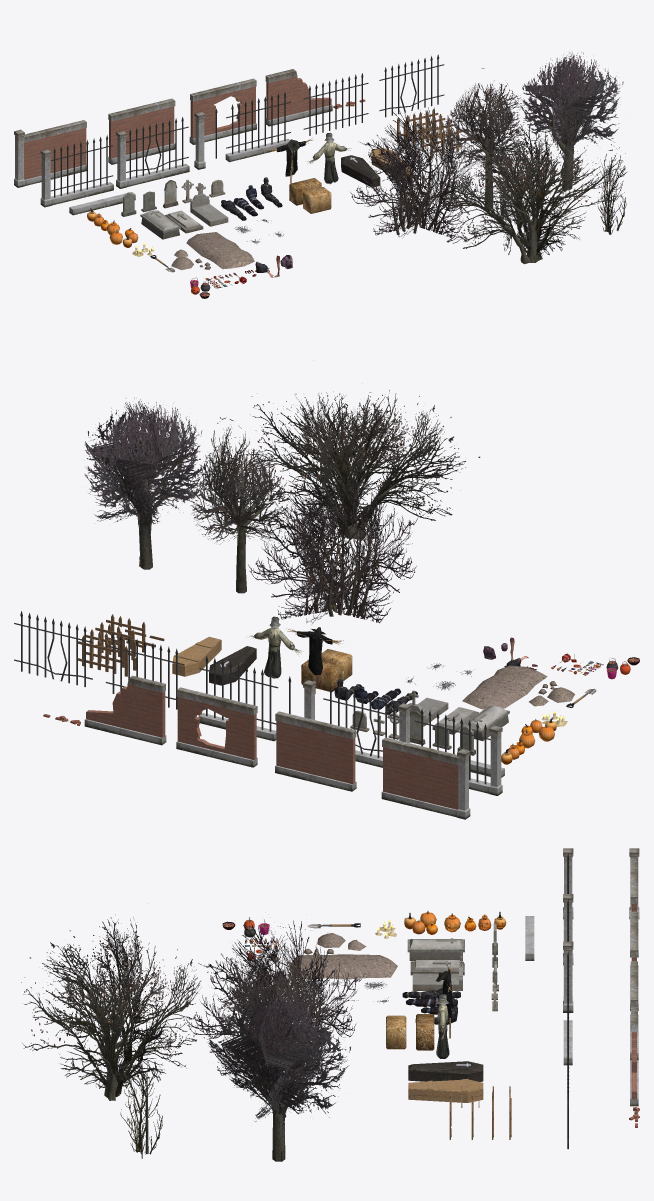
3 renders of one model, top to bottom at view 1: azimuth 30°, elevation 25°; view 2: azimuth 150°, elevation 25°; view 3: azimuth 270°, elevation 25°, orthographic. The views are drawn at different scales.
Parts seen in each view (by area): view 1: Tree_04, Tree_02, Tree, Tree_01, Wall, Wall_01, Wall_02, Wall_03, Fence_Metal, Fence_Metal_01, Fence_Metal_03, Farmland (+13 smaller); view 2: Tree_04, Tree_02, Tree, Tree_01, Wall, Wall_01, Wall_02, Wall_03, Fence_Metal, Farmland, Fence_Metal_01, Fence_Metal_03 (+8 smaller); view 3: Tree_04, Tree, Tree_02, Tree_01, Farmland, Tree_03, Stone_08, Coffin_01, Stone_06, Coffin_Top_01, Wall_03, Coffin_Top (+12 smaller).
Part boxes in pixels (x1,y1,x2,y2): Tree_04: [436, 120, 625, 264]; Tree_02: [350, 107, 482, 238]; Tree: [520, 52, 623, 190]; Tree_01: [441, 68, 526, 209]; Wall: [14, 120, 86, 187]; Wall_01: [108, 98, 175, 164]; Wall_02: [189, 78, 256, 144]; Wall_03: [265, 69, 332, 126]; Fence_Metal: [40, 135, 113, 207]; Fence_Metal_01: [116, 117, 189, 188]; Fence_Metal_03: [225, 92, 290, 162]; Farmland: [186, 232, 254, 269]; Tree_04: [245, 390, 480, 539]; Tree_02: [248, 461, 418, 623]; Tree: [84, 397, 204, 569]; Tree_01: [189, 425, 292, 593]; Wall: [381, 737, 470, 819]; Wall_01: [275, 711, 356, 791]; Wall_02: [176, 687, 257, 767]; Wall_03: [84, 675, 166, 745]; Fence_Metal: [414, 708, 502, 795]; Farmland: [462, 665, 547, 709]; Fence_Metal_01: [323, 686, 411, 767]; Fence_Metal_03: [198, 656, 278, 741]; Tree_04: [21, 914, 208, 1100]; Tree: [207, 988, 350, 1161]; Tree_02: [186, 920, 364, 1080]; Tree_01: [217, 938, 338, 1073]; Farmland: [289, 954, 397, 979]; Tree_03: [118, 1051, 162, 1158]; Stone_08: [407, 938, 464, 960]; Coffin_01: [408, 1083, 483, 1102]; Stone_06: [412, 951, 462, 990]; Coffin_Top_01: [409, 1078, 483, 1092]; Wall_03: [630, 1007, 638, 1106]; Coffin_Top: [408, 1061, 482, 1073].
Size of the model in its own units: 24.18 by 7.72 by 22.37.
42 materials, 42 textured.
